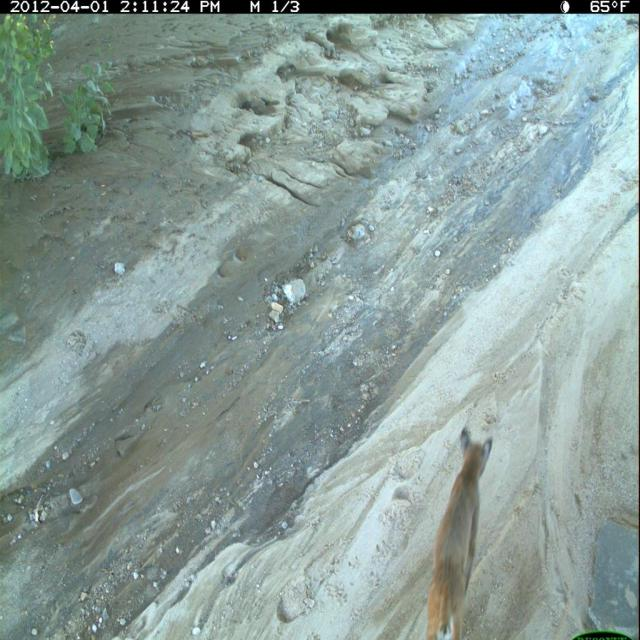bobcat: (422, 425, 497, 640)
